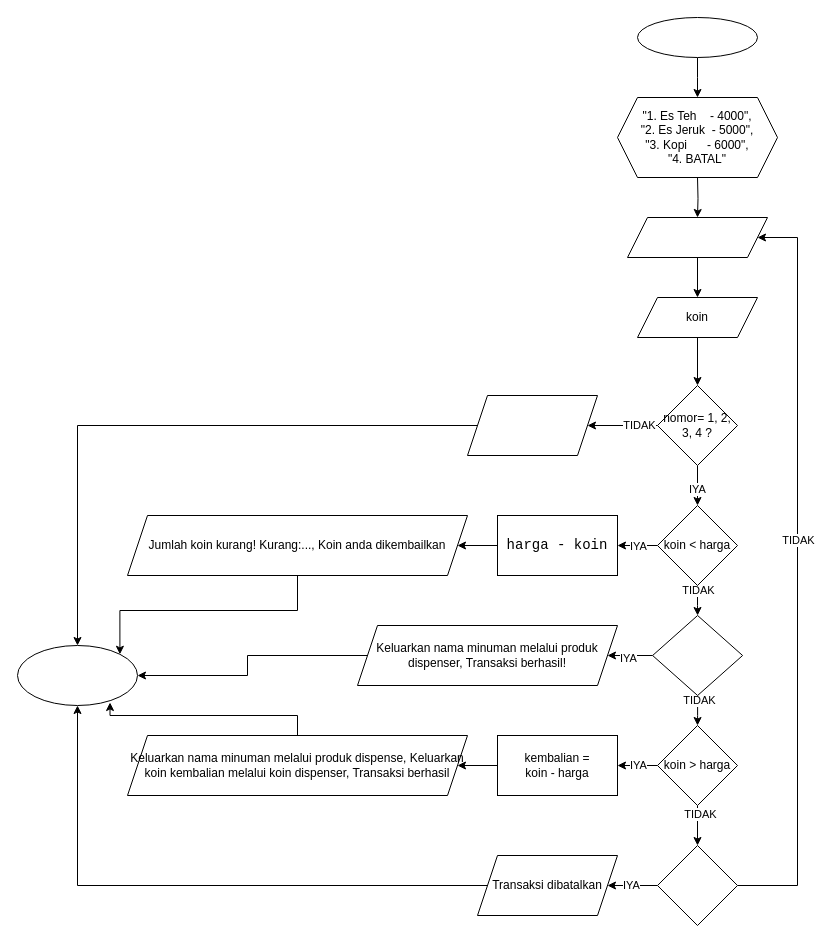
Image size: 831x943. Some labels were removed from this diagram. Each missing label, with the box of its shape:
koin == harga: (652, 614, 743, 696)
MULAI: (636, 16, 758, 58)
nomor == 4: (656, 844, 738, 926)
nomor: [1, 2, 3, 4]: (626, 216, 768, 258)
Pilihan tidak valid!: (466, 394, 598, 456)
SELESAI: (16, 644, 138, 706)
